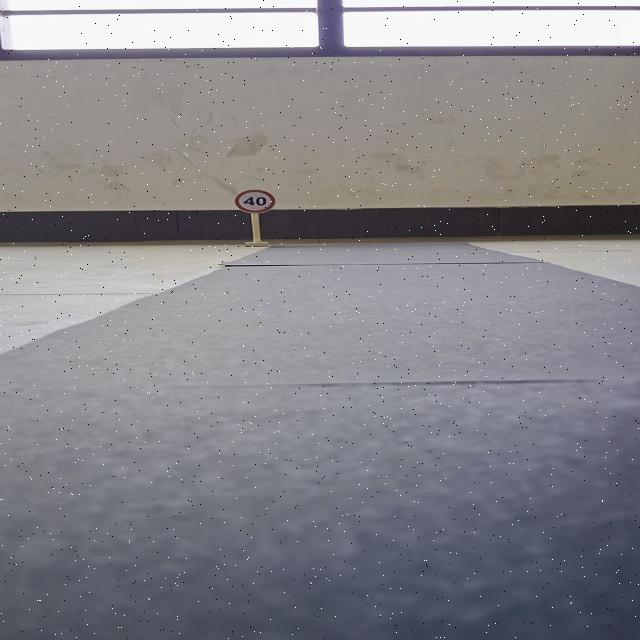Speed40: (228, 184, 282, 216)
